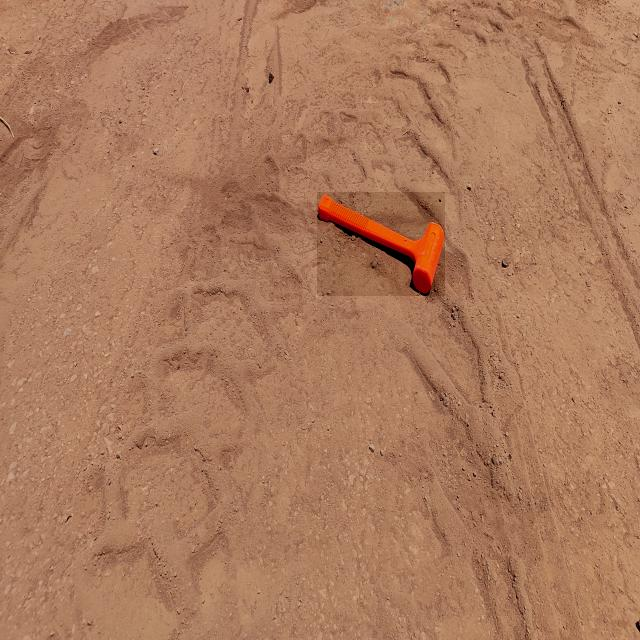Orange_hammer: (317, 192, 445, 296)
